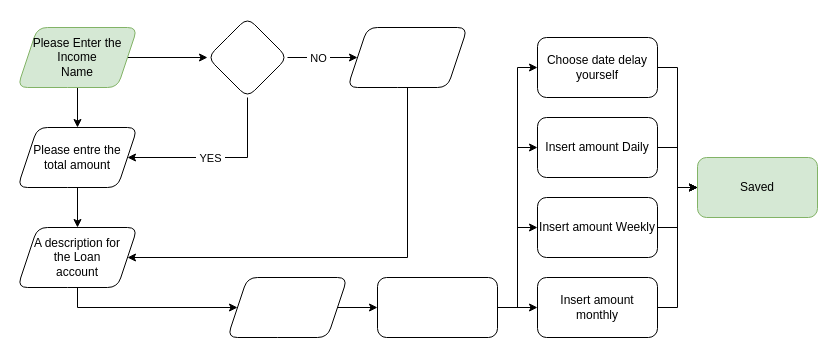
This 835x355 diagram has some shape labels left out. The shapes that lost their labels are listed below. From the top down, each one's box as (x1, y1, x2, y2) in pixels, then its label:
(206, 16, 288, 98): Is the income fixed
(346, 26, 468, 88): Please add an estimate amount (it can also be 0 if you are not sure)
(226, 276, 348, 338): Enter the starting amount (Can be 0)
(376, 276, 498, 338): Choose an option
